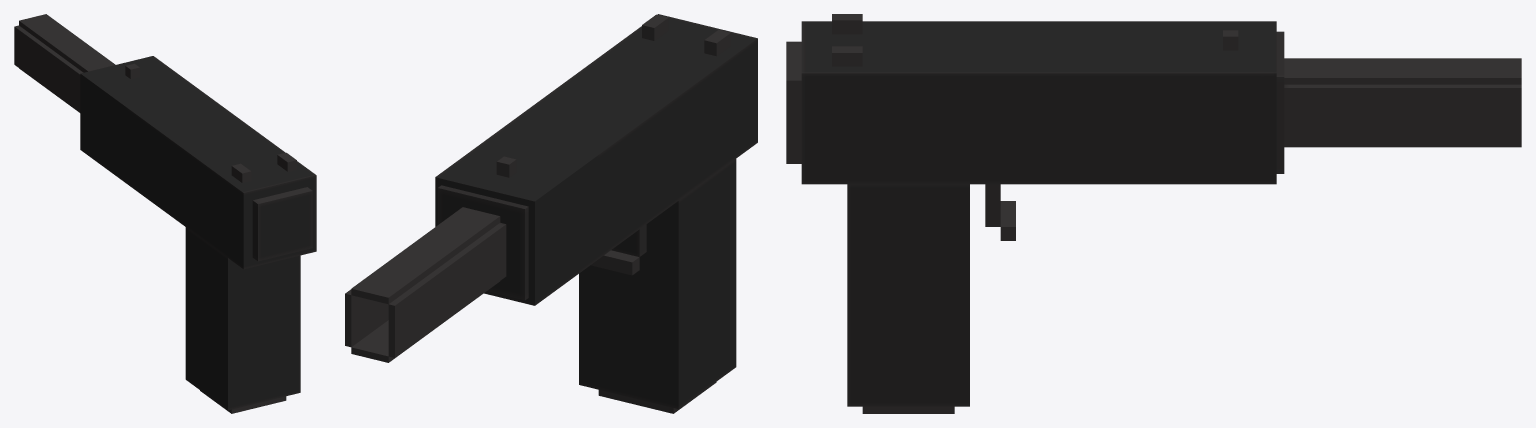
The model's file is pistol1R.obj.
The picture shows the model from 3 angles, left to right: view 1: azimuth 30°, elevation 25°; view 2: azimuth 150°, elevation 25°; view 3: azimuth 270°, elevation 25°; orthographic projection. The views are drawn at different scales.
Parts seen in each view (by area): view 1: cube; view 2: cube; view 3: cube.
Part boxes in pixels (bbox=[...]): cube: bbox=[14, 14, 316, 413]; cube: bbox=[345, 14, 757, 413]; cube: bbox=[786, 14, 1521, 413].
Bounding box in the file's own units: 2 × 6.5 × 12.
1 material, 1 textured.
